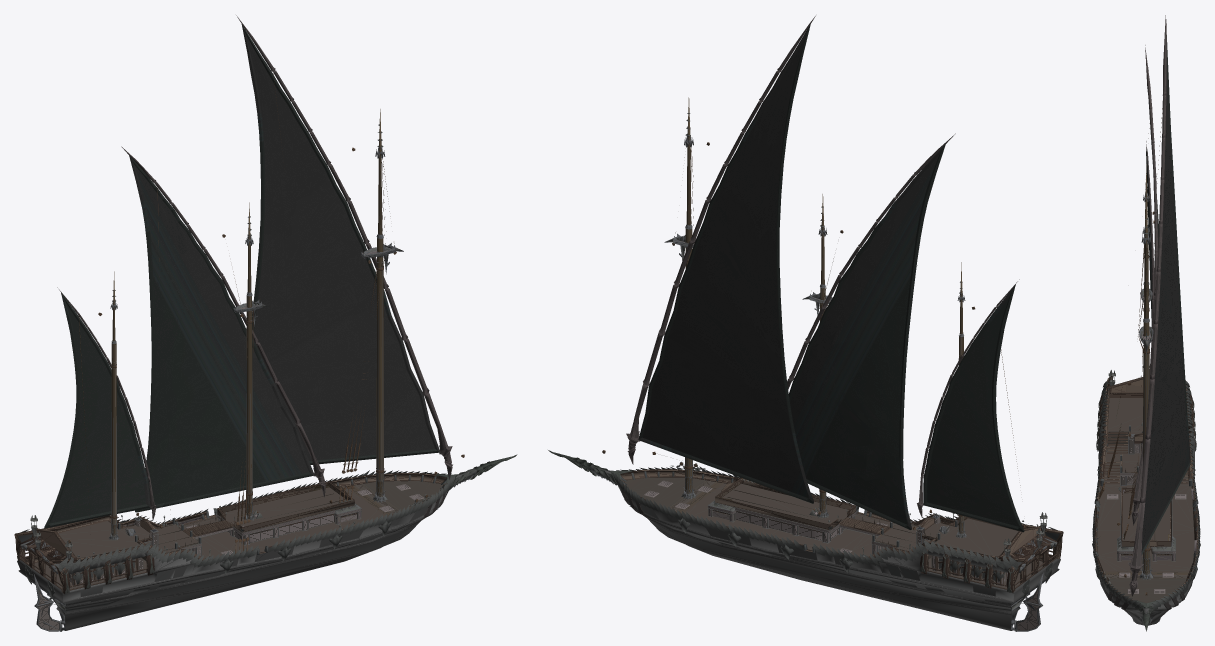
Rendered from corsair.glb.
3 renders of one model, left to right at view 1: azimuth 30°, elevation 25°; view 2: azimuth 150°, elevation 25°; view 3: azimuth 270°, elevation 25°, orthographic. The views are drawn at different scales.
Parts seen in each view (by area): view 1: Model001_40_sails_0_4_0_0_0, Model001_40_keel_0_4_0_0_0, Model001_40_mast_a1_0_4_0_0_0, Model001_40_cabin_a_ceiling_0_4_0_0_0, Model001_40_mast_c2_0_4_0_0_0, Model001_40_side_back_0_4_0_0_0, Model001_40_shields_side_0_4_0_0_0, Model001_40_mast_a_0_4_0_0_0, Model001_40_shields_back_0_4_0_0_0; view 2: Model001_40_sails_0_4_0_0_0, Model001_40_keel_0_4_0_0_0, Model001_40_cabin_a_ceiling_0_4_0_0_0, Model001_40_mast_a1_0_4_0_0_0, Model001_40_side_back_0_4_0_0_0, Model001_40_shields_side_0_4_0_0_0, Model001_40_mast_c2_0_4_0_0_0, Model001_40_shields_back_0_4_0_0_0; view 3: Model001_40_sails_0_4_0_0_0, Model001_40_cabin_a_ceiling_0_4_0_0_0, Model001_40_mast_a1_0_4_0_0_0, Model001_40_side_back_0_4_0_0_0, Model001_40_mast_c2_0_4_0_0_0, Model001_40_shields_side_0_4_0_0_0, Model001_40_keel_0_4_0_0_0, Model001_40_mast_a_0_4_0_0_0, Model001_40_shields_back_0_4_0_0_0, Model001_40_ornament_03_0_4_0_0_0, Model001_40_beam_0_4_0_0_0, Model001_40_shields_front_0_4_0_0_0.
Part boxes in pixels (left/top/right/bottom): Model001_40_sails_0_4_0_0_0: left=44, top=24, right=440, bottom=528; Model001_40_keel_0_4_0_0_0: left=17, top=468, right=475, bottom=630; Model001_40_mast_a1_0_4_0_0_0: left=20, top=15, right=476, bottom=631; Model001_40_cabin_a_ceiling_0_4_0_0_0: left=34, top=481, right=442, bottom=589; Model001_40_mast_c2_0_4_0_0_0: left=38, top=109, right=424, bottom=630; Model001_40_side_back_0_4_0_0_0: left=14, top=472, right=447, bottom=593; Model001_40_shields_side_0_4_0_0_0: left=15, top=470, right=473, bottom=600; Model001_40_mast_a_0_4_0_0_0: left=54, top=73, right=464, bottom=553; Model001_40_shields_back_0_4_0_0_0: left=17, top=454, right=517, bottom=593; Model001_40_sails_0_4_0_0_0: left=638, top=24, right=1024, bottom=532; Model001_40_keel_0_4_0_0_0: left=591, top=464, right=1060, bottom=630; Model001_40_cabin_a_ceiling_0_4_0_0_0: left=624, top=477, right=1042, bottom=588; Model001_40_mast_a1_0_4_0_0_0: left=590, top=16, right=1057, bottom=631; Model001_40_side_back_0_4_0_0_0: left=620, top=469, right=1063, bottom=592; Model001_40_shields_side_0_4_0_0_0: left=593, top=466, right=1062, bottom=599; Model001_40_mast_c2_0_4_0_0_0: left=644, top=97, right=1039, bottom=630; Model001_40_shields_back_0_4_0_0_0: left=548, top=450, right=1013, bottom=592; Model001_40_sails_0_4_0_0_0: left=1141, top=35, right=1190, bottom=555; Model001_40_cabin_a_ceiling_0_4_0_0_0: left=1097, top=397, right=1194, bottom=603; Model001_40_mast_a1_0_4_0_0_0: left=1096, top=15, right=1192, bottom=625; Model001_40_side_back_0_4_0_0_0: left=1094, top=376, right=1198, bottom=600; Model001_40_mast_c2_0_4_0_0_0: left=1107, top=164, right=1196, bottom=593; Model001_40_shields_side_0_4_0_0_0: left=1092, top=381, right=1200, bottom=614; Model001_40_keel_0_4_0_0_0: left=1093, top=380, right=1199, bottom=625; Model001_40_mast_a_0_4_0_0_0: left=1097, top=108, right=1162, bottom=595; Model001_40_shields_back_0_4_0_0_0: left=1096, top=390, right=1196, bottom=631; Model001_40_ornament_03_0_4_0_0_0: left=1111, top=379, right=1156, bottom=545; Model001_40_beam_0_4_0_0_0: left=1095, top=426, right=1197, bottom=594; Model001_40_shields_front_0_4_0_0_0: left=1108, top=591, right=1184, bottom=611.
Size of the model in its own units: 26.43 by 29.46 by 5.26.
Materials: 12 (12 with a texture image).
